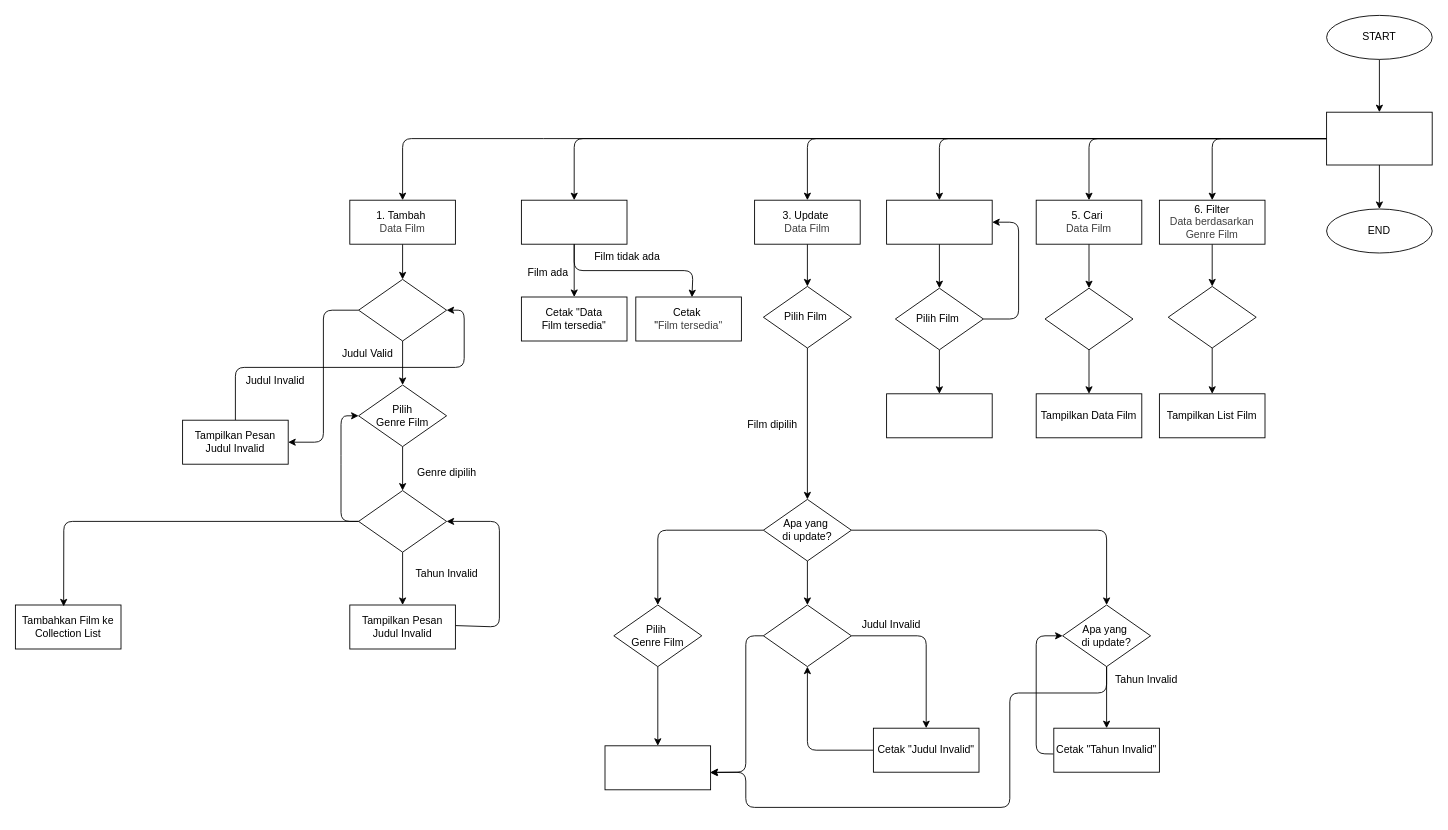
Some shapes in this 1448 by 830 pixel diagram are drawn without their labels. Here are the shapes that lost their labels. From the top down, the centre of each, then its label:
At point (1379, 138): "Tampilkan Menu Aplikasi".
At point (574, 221): "2. Lihat Data Film".
At point (939, 221): "4. Hapus Data Film".
At point (402, 310): "Input Judul".
At point (1088, 318): "Input kata kunci film".
At point (1211, 317): "Pilih Genre".
At point (939, 415): "Hapus Film".
At point (402, 521): "Input Tahun Film".
At point (807, 635): "Update Judul Film".
At point (657, 767): "Simpan Perubahan".
